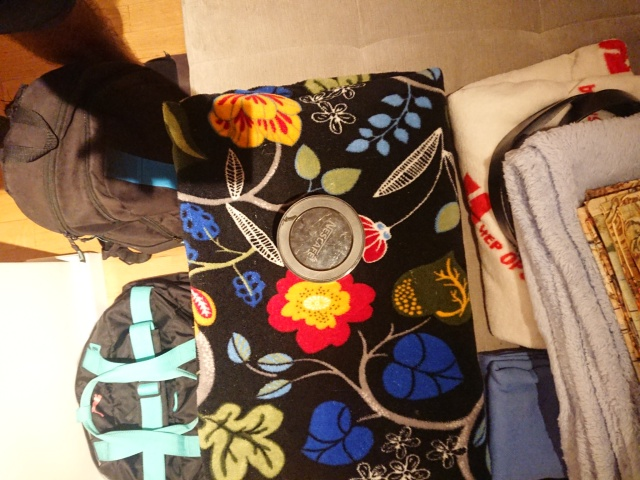Nescafe Classic 225g: (273, 192, 368, 286)
